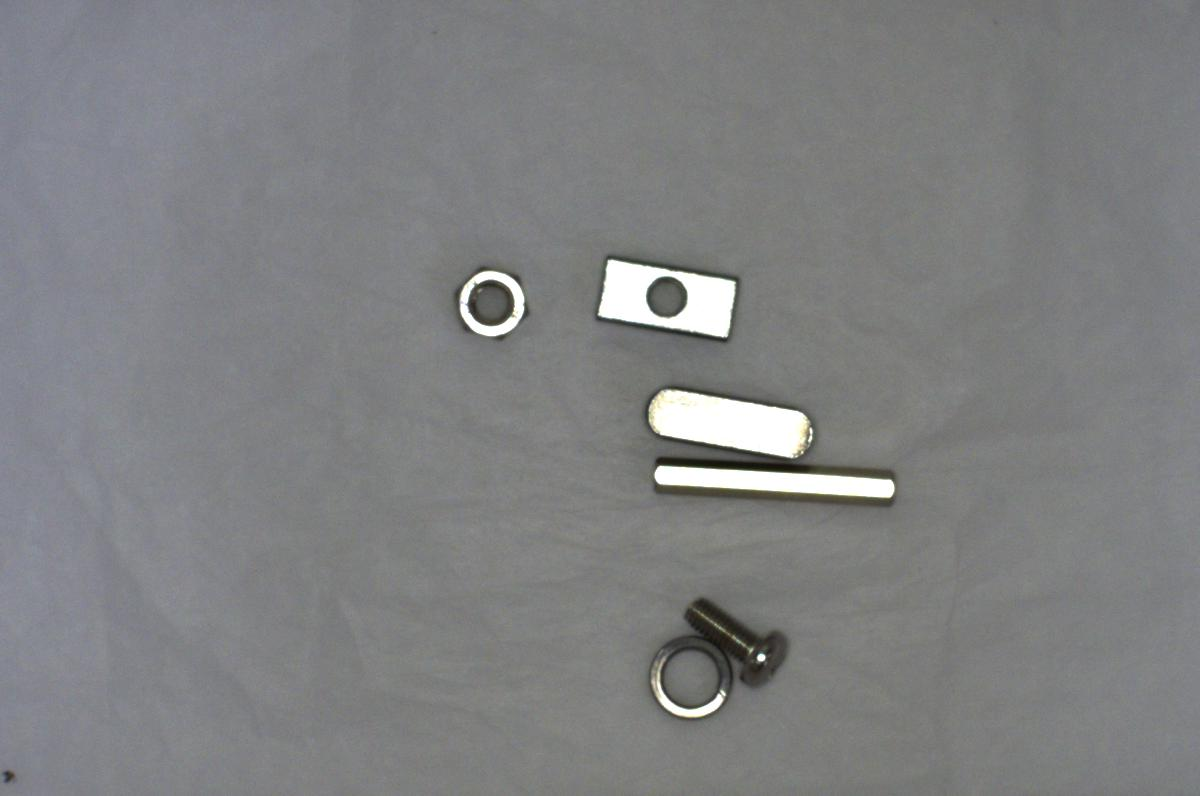Double hexagonal column: (647, 445, 902, 512)
Hexagon nut: (448, 263, 539, 344)
Keybar: (639, 371, 820, 465)
Rectangular nut: (588, 250, 747, 342)
Round head screw: (682, 582, 800, 696)
Spring washer: (642, 627, 737, 727)
